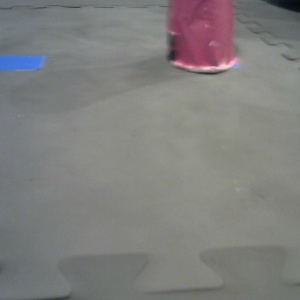Right: (162, 1, 225, 53)
